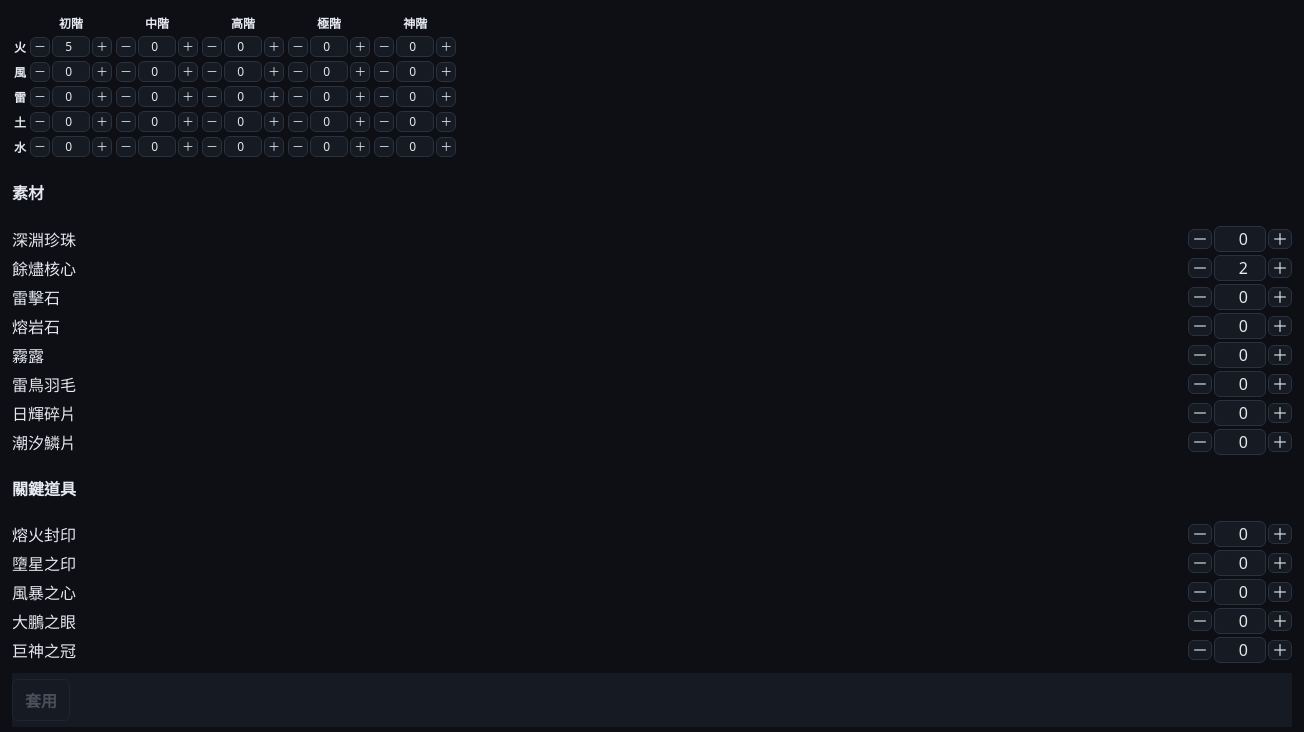
Test: GmInventoryTab › disables 套用 while sending and when nothing changed
Expected: the button "套用" is disabled, [12,679,70,721]
Replace the text in the number field named "初階火" with "9". click: [71, 46]
box: [52,36,90,57]
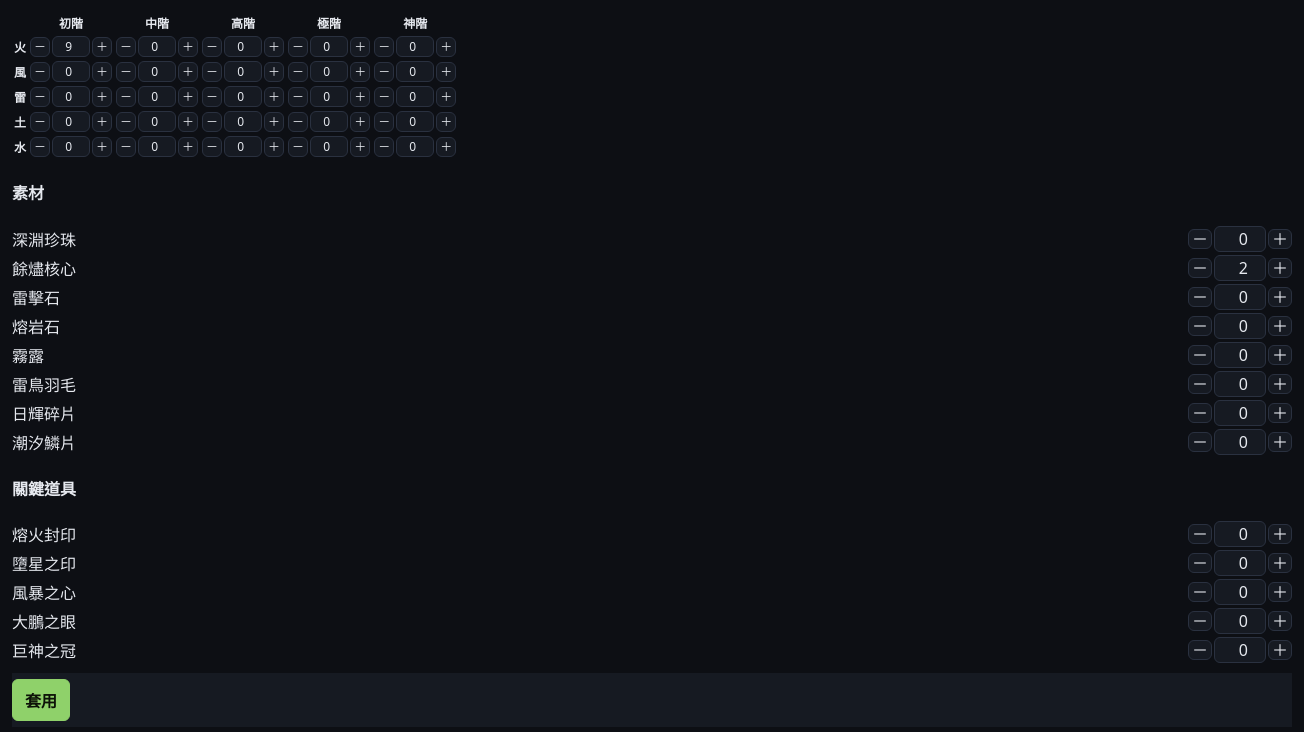
Expected: the button "套用" is enabled
Click the button "套用". click: [41, 700]
box: [12,679,70,721]
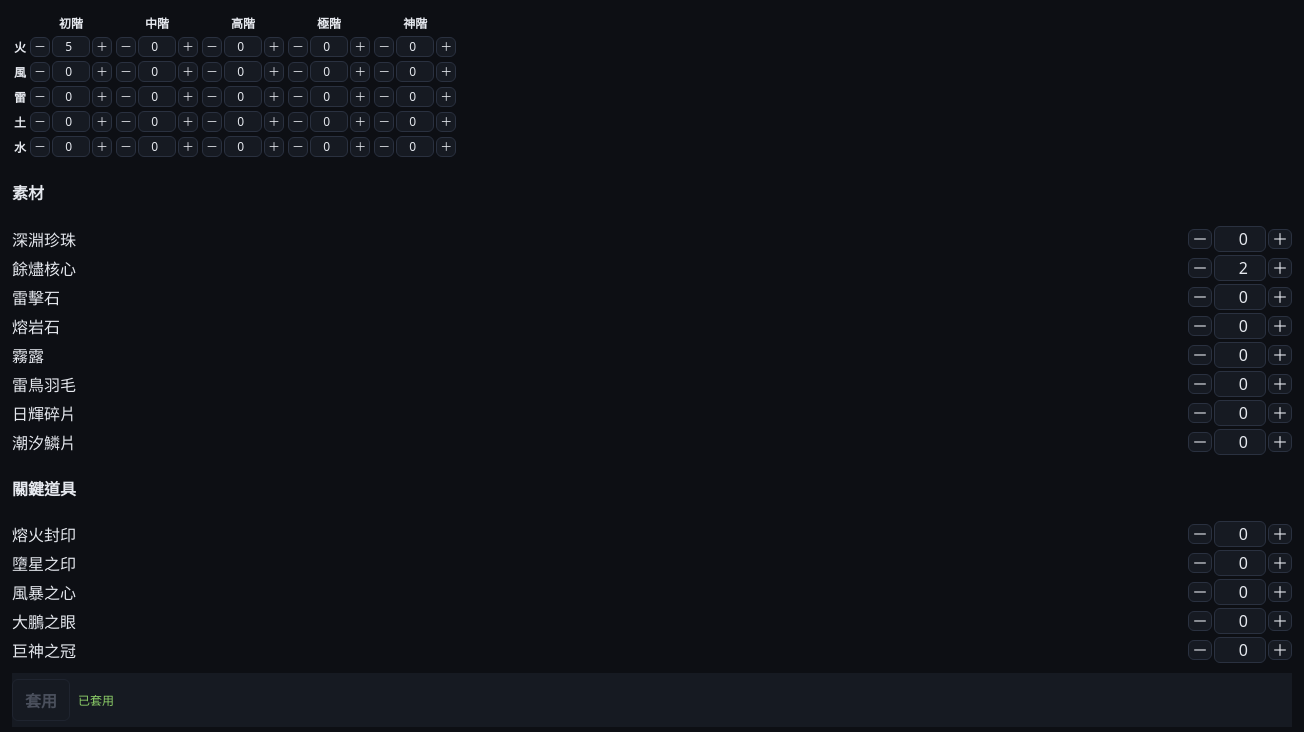
Expected: the button named "處理中" is disabled, [12,679,70,721]
Expected: the message reads "已套用", [78,692,114,709]
